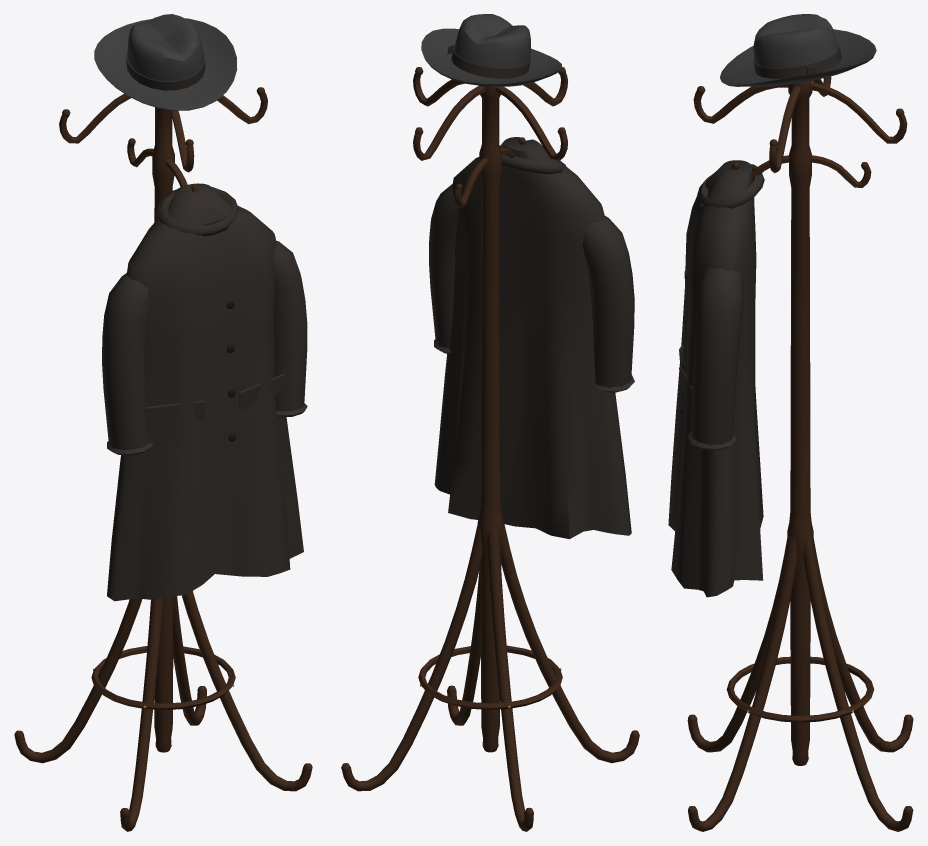
File: coat_rack.glb
3 views of the same model, side by side, from view 1: azimuth 30°, elevation 25°; view 2: azimuth 150°, elevation 25°; view 3: azimuth 270°, elevation 25° (orthographic). The views are drawn at different scales.
Parts seen in each view (by area): view 1: coat, coat_rack_body; view 2: coat, coat_rack_body; view 3: coat_rack_body, coat.
Boxes of the visible parts, box(x1,y1,x2,y2) form: coat: box(102, 183, 307, 601); coat_rack_body: box(14, 14, 312, 831); coat: box(429, 137, 634, 539); coat_rack_body: box(341, 14, 639, 831); coat_rack_body: box(687, 14, 913, 831); coat: box(668, 160, 764, 597).
Bounding box in the file's own units: 0.5494 × 1.98 × 0.5712.
